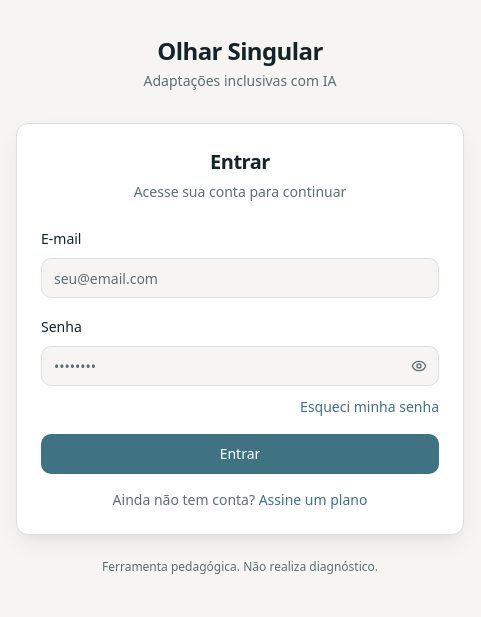
AuthPage (login only) › shows the mapped error on failed login
This screenshot has width=481, height=617.
Type "a@b.com" into the field labelled "E-mail" at (240, 278), box x1=41 y1=258 x2=439 y2=298
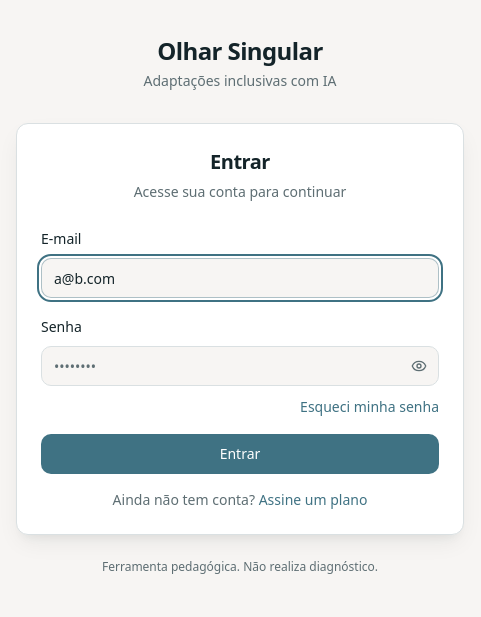
Type "123456" into the password field labelled "Senha" at (240, 366), box x1=41 y1=346 x2=439 y2=386
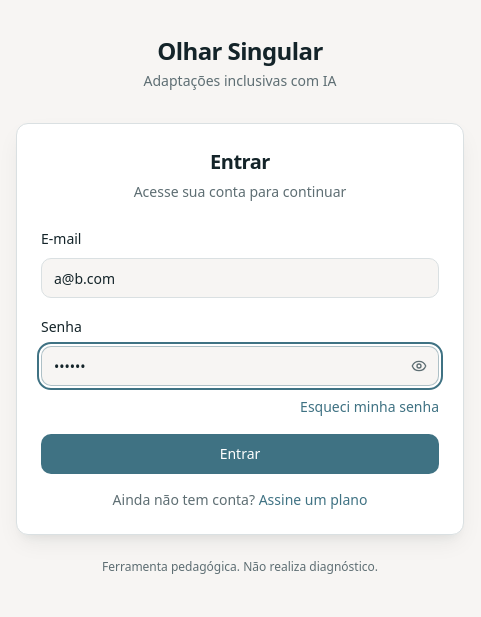
Click the button "Entrar" at (240, 454), box x1=41 y1=434 x2=439 y2=474
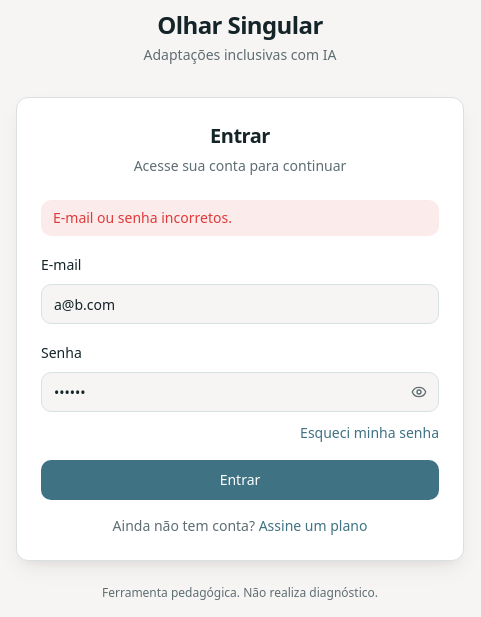
Check: the message shows "E-mail ou senha incorretos", box x1=53 y1=208 x2=232 y2=227
